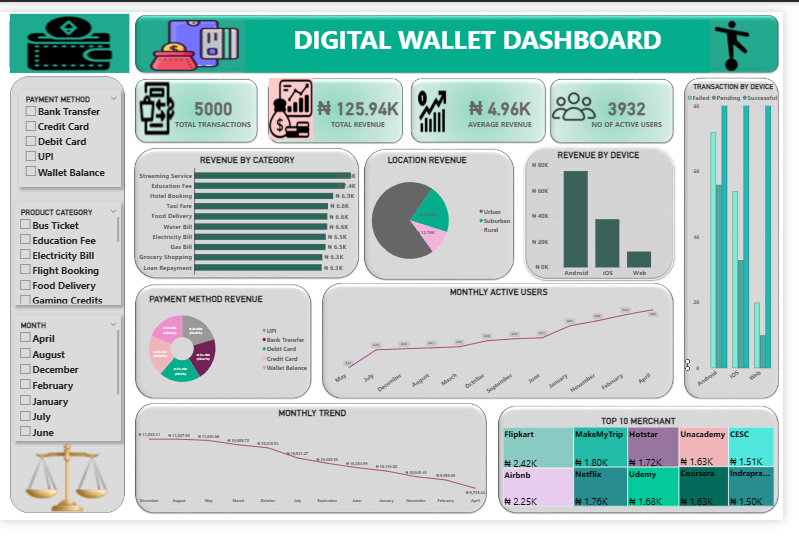

This screenshot's page, from the dashboard's own definition file:
{"tool":"powerbi","page":{"name":"Page 1","canvas":[2700,1750],"ordinal":0},"visuals":[{"type":"card","fields":{"Values":["CountNonNull(digital_wallet digital_wallet.idx)"]},"box":[583.9,267.7,303.2,148.4],"z":0},{"type":"card","fields":{"Values":["Count(digital_wallet digital_wallet.user_id)"]},"box":[2019.4,267.7,280.6,148.4],"z":1000},{"type":"card","fields":{"Values":["Avg(digital_wallet digital_wallet.product_amount)"]},"box":[1561.3,267.7,322.6,148.4],"z":2000},{"type":"card","fields":{"Values":["Sum(digital_wallet total_transaction_fees_revenue.total_revenue)"]},"box":[1077.4,267.7,316.1,148.4],"z":3000},{"type":"lineChart","title":"MONTHLY TREND","fields":{"Category":["digital_wallet digital_wallet.transaction month"],"Y":["Sum(digital_wallet digital_wallet.transaction_fee)"]},"box":[467.7,1345.2,1216.1,364.5],"z":4000},{"type":"barChart","title":"REVENUE BY CATEGORY","fields":{"Category":["digital_wallet product_revenue.product_category"],"Y":["Sum(digital_wallet product_revenue.product_revenue)"]},"box":[467.7,471,767.7,438.7],"z":5000},{"type":"treemap","title":"TOP 10 MERCHANT","fields":{"Group":["digital_wallet top_10_merchants.merchant_name"],"Values":["Sum(digital_wallet top_10_merchants.revenue_generated)"]},"box":[1723.3,1373.3,950,336.7],"z":6000},{"type":"donutChart","title":"PAYMENT METHOD REVENUE","fields":{"Category":["digital_wallet payment_method_revenue.payment_method"],"Y":["Sum(digital_wallet payment_method_revenue.total_revenue)"]},"box":[348.4,951.6,729,364.5],"z":7000},{"type":"lineChart","title":"MONTHLY ACTIVE USERS","fields":{"Category":["digital_wallet digital_wallet.transaction month"],"Y":["CountNonNull(digital_wallet digital_wallet.idx)"]},"box":[1145.2,929,1154.8,409.7],"z":8000},{"type":"clusteredColumnChart","title":"TRANSACTION BY DEVICE","fields":{"Category":["digital_wallet device_type_analysis.device_type"],"Y":["CountNonNull(digital_wallet digital_wallet.transaction_status)"],"Series":["digital_wallet digital_wallet.transaction_status"]},"box":[2354.8,225.8,341.9,1090.3],"z":9000},{"type":"lineStackedColumnComboChart","title":"REVENUE BY DEVICE","fields":{"Category":["digital_wallet digital_wallet.device_type"],"Y":["Sum(digital_wallet digital_wallet.transaction_fee)"]},"box":[1825.8,454.8,474.2,467.7],"z":10000},{"type":"pieChart","title":"LOCATION REVENUE","fields":{"Category":["digital_wallet digital_wallet.location"],"Y":["Sum(digital_wallet digital_wallet.transaction_fee)"]},"box":[1171,471,606.5,438.7],"z":12000},{"type":"slicer","fields":{"Values":["digital_wallet digital_wallet.product_category"]},"box":[48.4,654.8,367.7,354.8],"z":13000},{"type":"slicer","fields":{"Values":["digital_wallet digital_wallet.transaction month"]},"box":[48.4,1045.2,367.7,435.5],"z":14000},{"type":"slicer","fields":{"Values":["digital_wallet digital_wallet.payment_method"]},"box":[64.5,267.7,351.6,335.5],"z":15000},{"type":"textbox","box":[845.2,29,1603.2,180.6],"z":16001}]}

Visuals, with their boxes on the page's 2700x1750 design canvas (x1, y1, x2, y2). These are canvas units, not pixel positions in the 799x540 screenshot, which may show the page scaled, cropped or inside an application window:
card - CountNonNull(digital_wallet digital_wallet.idx): 584:268:887:416
card - Count(digital_wallet digital_wallet.user_id): 2019:268:2300:416
card - Avg(digital_wallet digital_wallet.product_amount): 1561:268:1884:416
card - Sum(digital_wallet total_transaction_fees_revenue.total_revenue): 1077:268:1394:416
"MONTHLY TREND" lineChart: 468:1345:1684:1710
"REVENUE BY CATEGORY" barChart: 468:471:1235:910
"TOP 10 MERCHANT" treemap: 1723:1373:2673:1710
"PAYMENT METHOD REVENUE" donutChart: 348:952:1077:1316
"MONTHLY ACTIVE USERS" lineChart: 1145:929:2300:1339
"TRANSACTION BY DEVICE" clusteredColumnChart: 2355:226:2697:1316
"REVENUE BY DEVICE" lineStackedColumnComboChart: 1826:455:2300:922
"LOCATION REVENUE" pieChart: 1171:471:1778:910
slicer - digital_wallet digital_wallet.product_category: 48:655:416:1010
slicer - digital_wallet digital_wallet.transaction month: 48:1045:416:1481
slicer - digital_wallet digital_wallet.payment_method: 64:268:416:603
textbox: 845:29:2448:210
